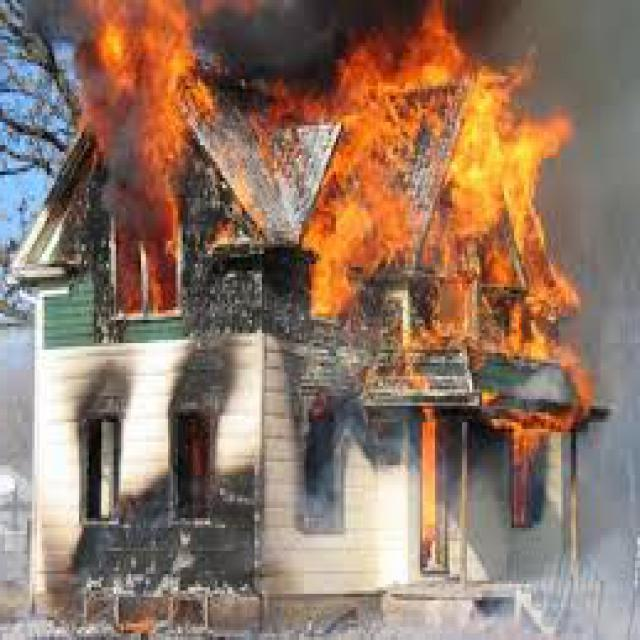Fire: (329, 44, 580, 344), (105, 1, 196, 207)
Smoke: (196, 0, 508, 109)
